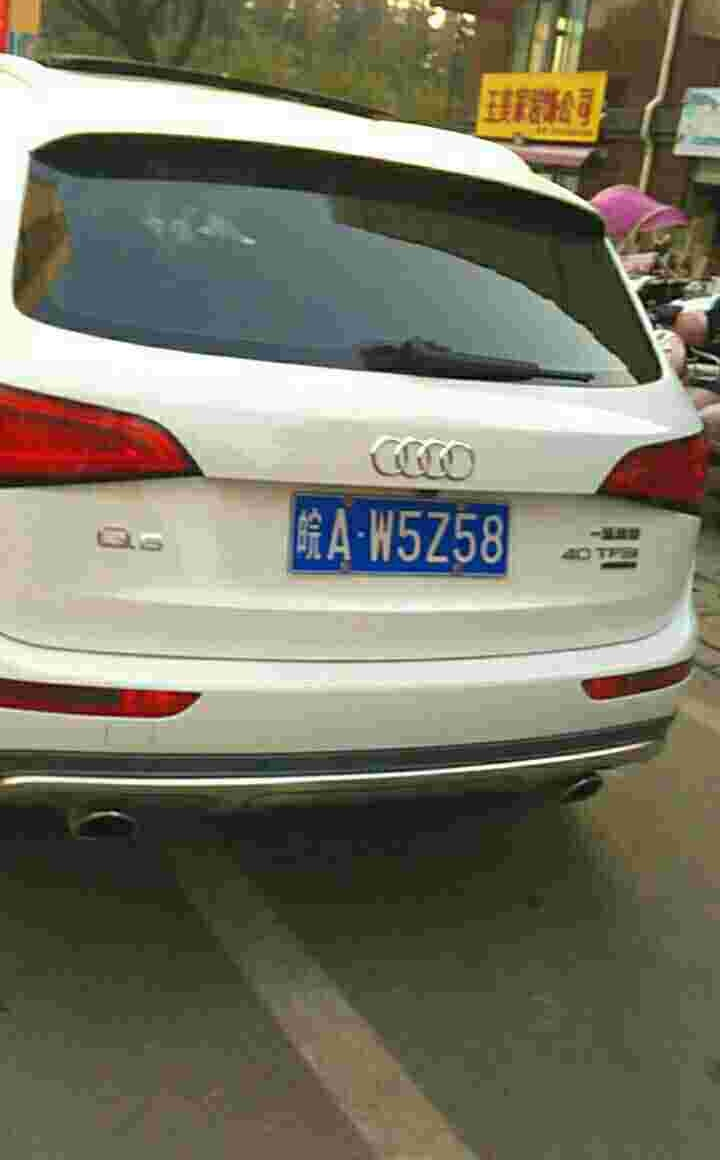car: (290, 491, 514, 573)
